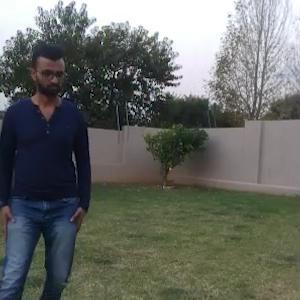follow: (0, 13, 101, 299)
